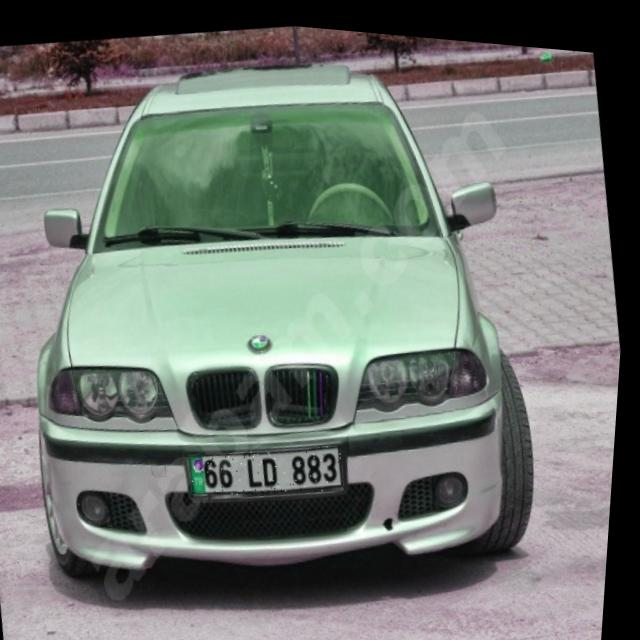license_plate: (192, 429, 353, 507)
